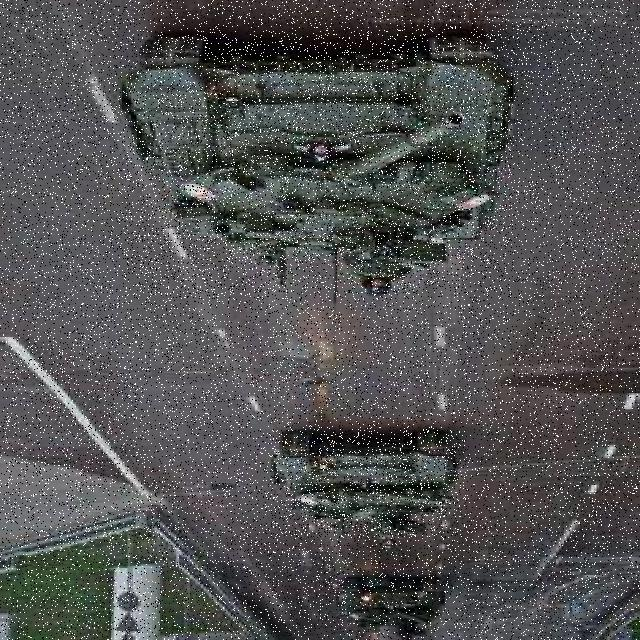MIL_MBT: (125, 34, 513, 294), (271, 430, 461, 538)
